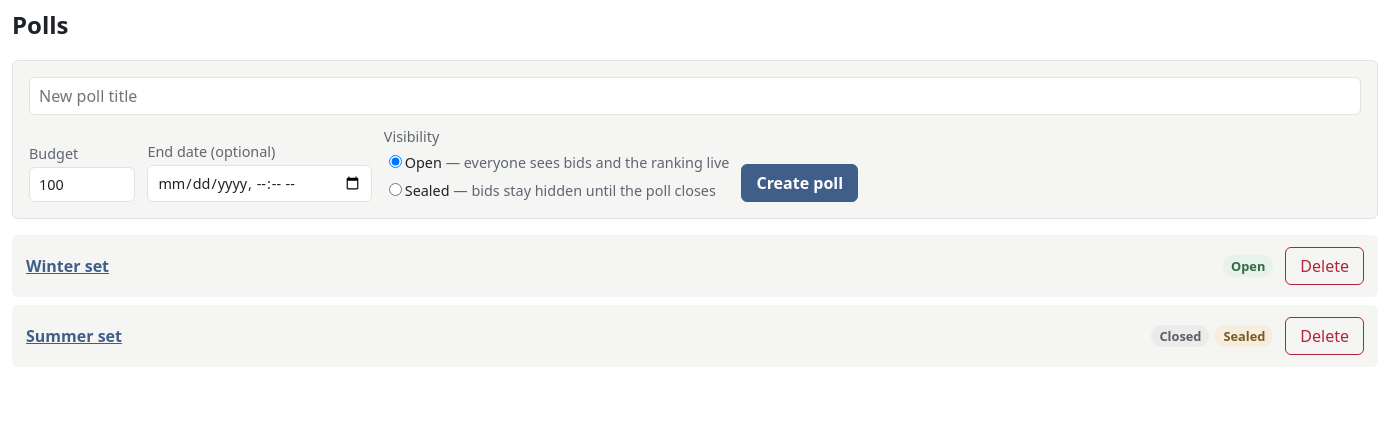
Test case: PollsList › rejects an invalid budget
Type "Fall set" into the field labelled "New poll title".
click(695, 96); type("Fall set")  # box x1=29 y1=77 x2=1361 y2=115
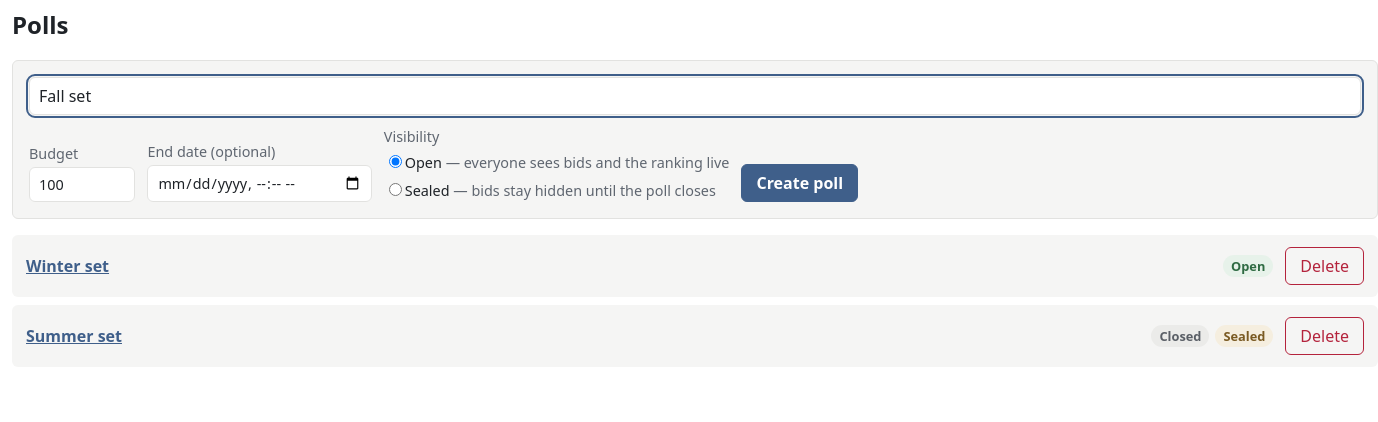
Replace the text in the number field labelled "Budget" with "1001" at (82, 184), box x1=29 y1=167 x2=135 y2=202
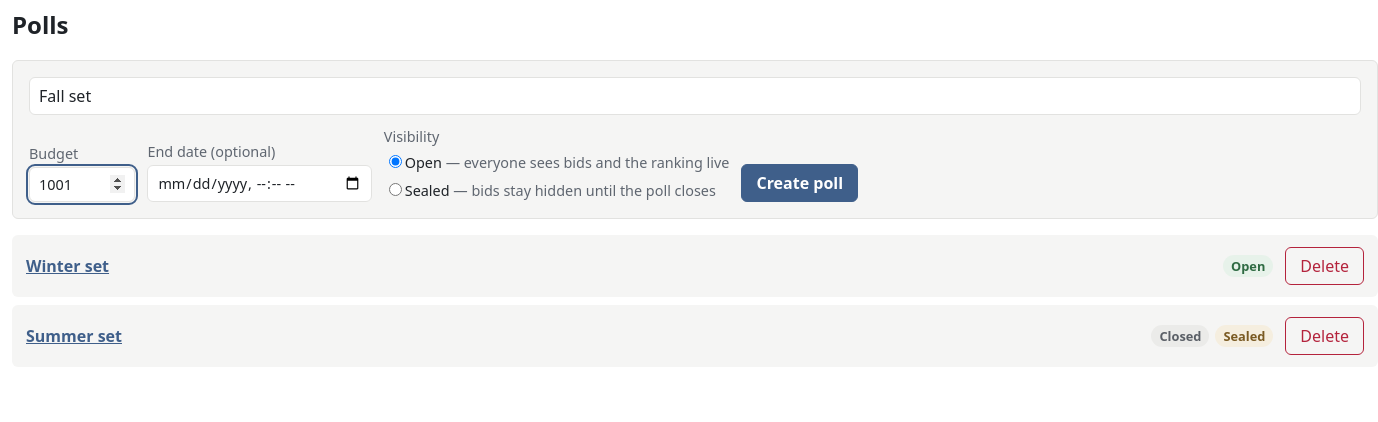
Click the button "Create poll".
click(800, 183)  # box x1=741 y1=164 x2=858 y2=202
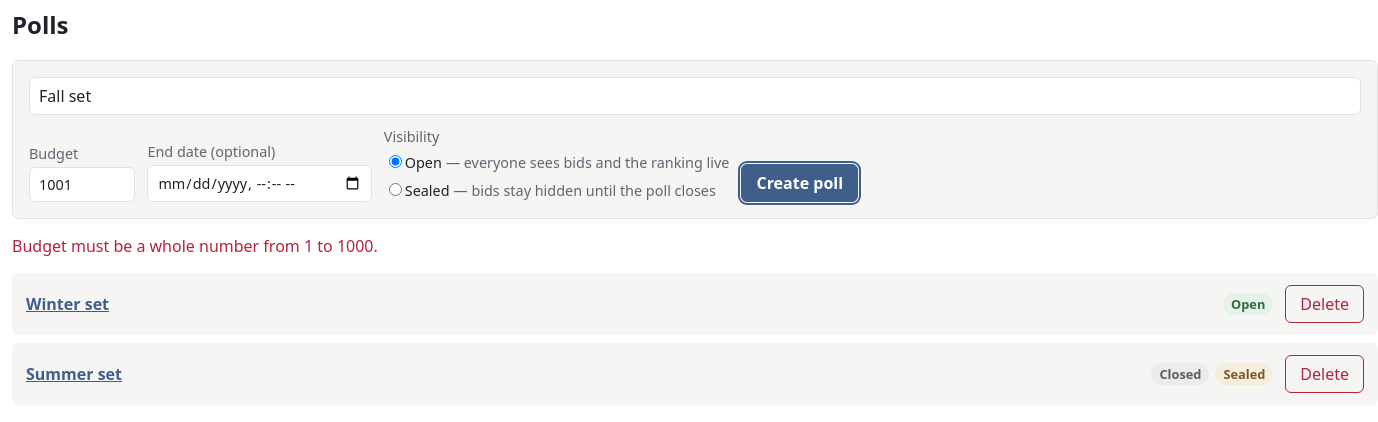
Check: the message reads "Budget must be a whole number from 1 to 1000.", box x1=12 y1=235 x2=378 y2=257
